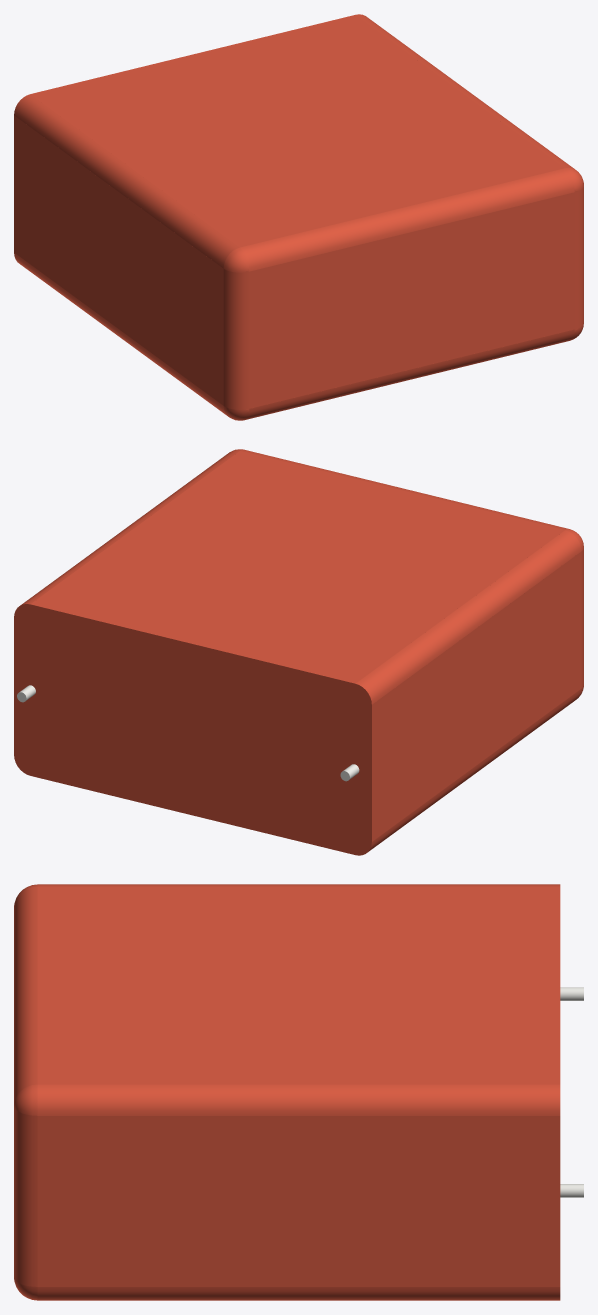
File: C_Rect_L41.5mm_W19.0mm_P37.50mm_MKS4.glb
3 views of the same model, one above another, from view 1: azimuth 30°, elevation 25°; view 2: azimuth 150°, elevation 25°; view 3: azimuth 270°, elevation 25° (orthographic). The views are drawn at different scales.
Parts seen in each view (by area): view 1: Shape_IndexedFaceSet.009, Shape_IndexedFaceSet.008, Shape_IndexedFaceSet, Shape_IndexedFaceSet.016, Shape_IndexedFaceSet.004, Shape_IndexedFaceSet.002, Shape_IndexedFaceSet.015, Shape_IndexedFaceSet.001, Shape_IndexedFaceSet.011, Shape_IndexedFaceSet.017; view 2: Shape_IndexedFaceSet.009, Shape_IndexedFaceSet.003, Shape_IndexedFaceSet, Shape_IndexedFaceSet.004, Shape_IndexedFaceSet.001, Shape_IndexedFaceSet.011, Shape_IndexedFaceSet.016; view 3: Shape_IndexedFaceSet.009, Shape_IndexedFaceSet.012, Shape_IndexedFaceSet.011, Shape_IndexedFaceSet.010, Shape_IndexedFaceSet.016, Shape_IndexedFaceSet.017, Shape_IndexedFaceSet.004, Shape_IndexedFaceSet.019.
Boxes of the visible parts, x1=… form: Shape_IndexedFaceSet.009: x1=30, y1=15, x2=564, y2=247; Shape_IndexedFaceSet.008: x1=249, y1=192, x2=574, y2=408; Shape_IndexedFaceSet: x1=14, y1=115, x2=223, y2=405; Shape_IndexedFaceSet.016: x1=240, y1=168, x2=574, y2=271; Shape_IndexedFaceSet.004: x1=14, y1=94, x2=239, y2=268; Shape_IndexedFaceSet.002: x1=223, y1=269, x2=249, y2=409; Shape_IndexedFaceSet.015: x1=245, y1=329, x2=574, y2=419; Shape_IndexedFaceSet.001: x1=14, y1=252, x2=226, y2=415; Shape_IndexedFaceSet.011: x1=356, y1=14, x2=574, y2=168; Shape_IndexedFaceSet.017: x1=574, y1=187, x2=583, y2=329; Shape_IndexedFaceSet.009: x1=30, y1=451, x2=564, y2=683; Shape_IndexedFaceSet.003: x1=14, y1=604, x2=371, y2=855; Shape_IndexedFaceSet: x1=372, y1=551, x2=581, y2=841; Shape_IndexedFaceSet.004: x1=355, y1=530, x2=581, y2=704; Shape_IndexedFaceSet.001: x1=368, y1=689, x2=581, y2=851; Shape_IndexedFaceSet.011: x1=21, y1=450, x2=239, y2=604; Shape_IndexedFaceSet.016: x1=240, y1=449, x2=568, y2=529; Shape_IndexedFaceSet.009: x1=37, y1=886, x2=560, y2=1084; Shape_IndexedFaceSet.012: x1=37, y1=1116, x2=560, y2=1286; Shape_IndexedFaceSet.011: x1=37, y1=1084, x2=560, y2=1115; Shape_IndexedFaceSet.010: x1=37, y1=1287, x2=560, y2=1300; Shape_IndexedFaceSet.016: x1=14, y1=886, x2=37, y2=1103; Shape_IndexedFaceSet.017: x1=14, y1=1107, x2=37, y2=1286; Shape_IndexedFaceSet.004: x1=37, y1=884, x2=560, y2=886; Shape_IndexedFaceSet.019: x1=14, y1=1084, x2=37, y2=1115.
Bounding box in the file's own units: 16.34 × 7.48 × 18.07.
